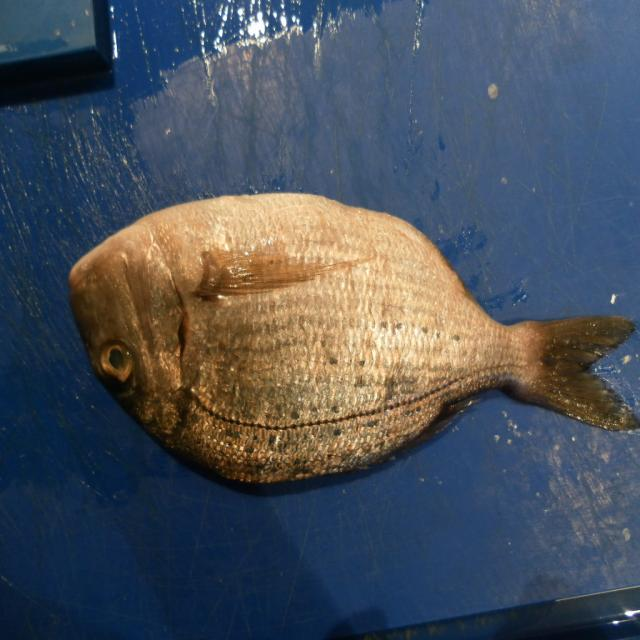Red-Sea-Bream-mercan-: (68, 193, 640, 492)
